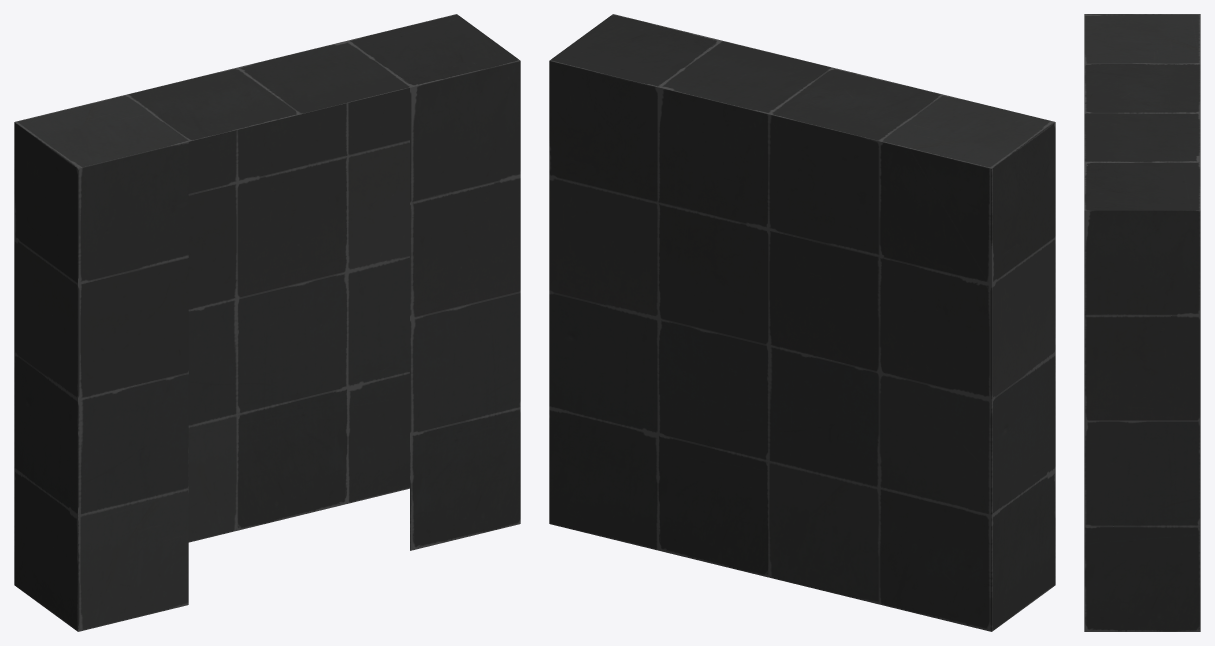
File: Wall.fbx
3 views of the same model, side by side, from view 1: azimuth 30°, elevation 25°; view 2: azimuth 150°, elevation 25°; view 3: azimuth 270°, elevation 25° (orthographic). The views are drawn at different scales.
Visible parts, largest first — view 1: Level_1; view 2: Level_1; view 3: Level_1.
Part boxes in pixels (bbox=[...]): Level_1: bbox=[14, 14, 520, 631]; Level_1: bbox=[549, 14, 1055, 631]; Level_1: bbox=[1084, 14, 1200, 631].
Size of the model in its own units: 250 by 250 by 62.5.
